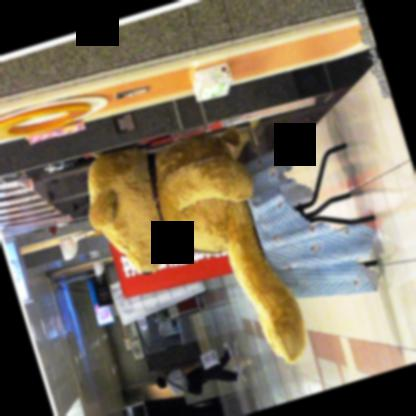handbag: (166, 364, 202, 394)
